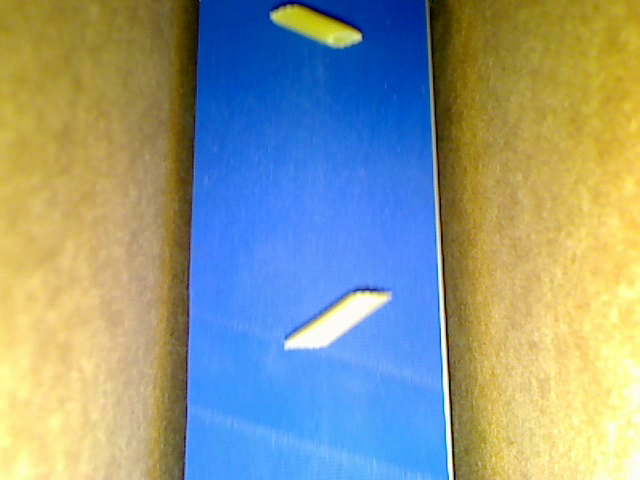penne: (282, 289, 392, 348), (267, 4, 362, 49)
